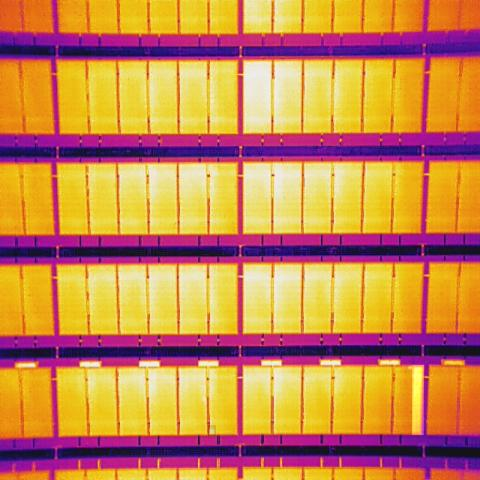fault: (412, 365, 424, 435), (208, 425, 216, 436)
